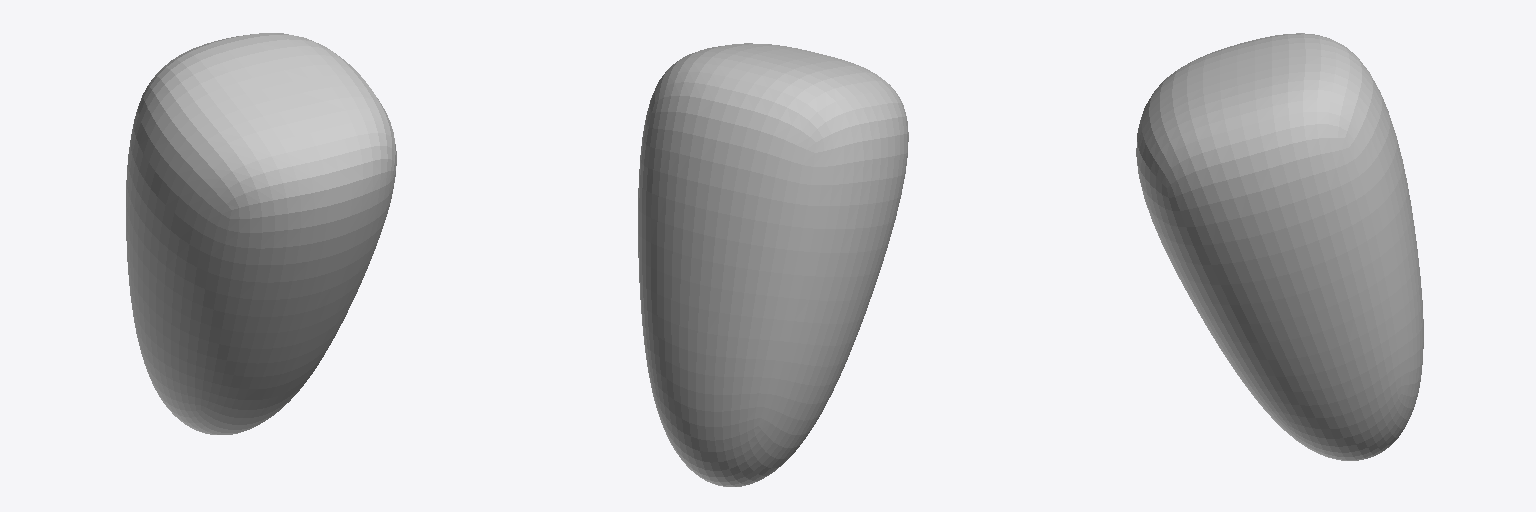
File: antebrazoIzq.obj
3 renders of one model, left to right at view 1: azimuth 30°, elevation 25°; view 2: azimuth 150°, elevation 25°; view 3: azimuth 270°, elevation 25°, orthographic.
Visible parts, largest first — view 1: antebrazoIzqElRey_Mesh; view 2: antebrazoIzqElRey_Mesh; view 3: antebrazoIzqElRey_Mesh.
Part boxes in pixels (bbox=[...]): antebrazoIzqElRey_Mesh: bbox=[126, 33, 396, 434]; antebrazoIzqElRey_Mesh: bbox=[638, 43, 908, 486]; antebrazoIzqElRey_Mesh: bbox=[1136, 33, 1423, 460].
Bounding box in the file's own units: 0.5576 × 0.9516 × 0.6206.